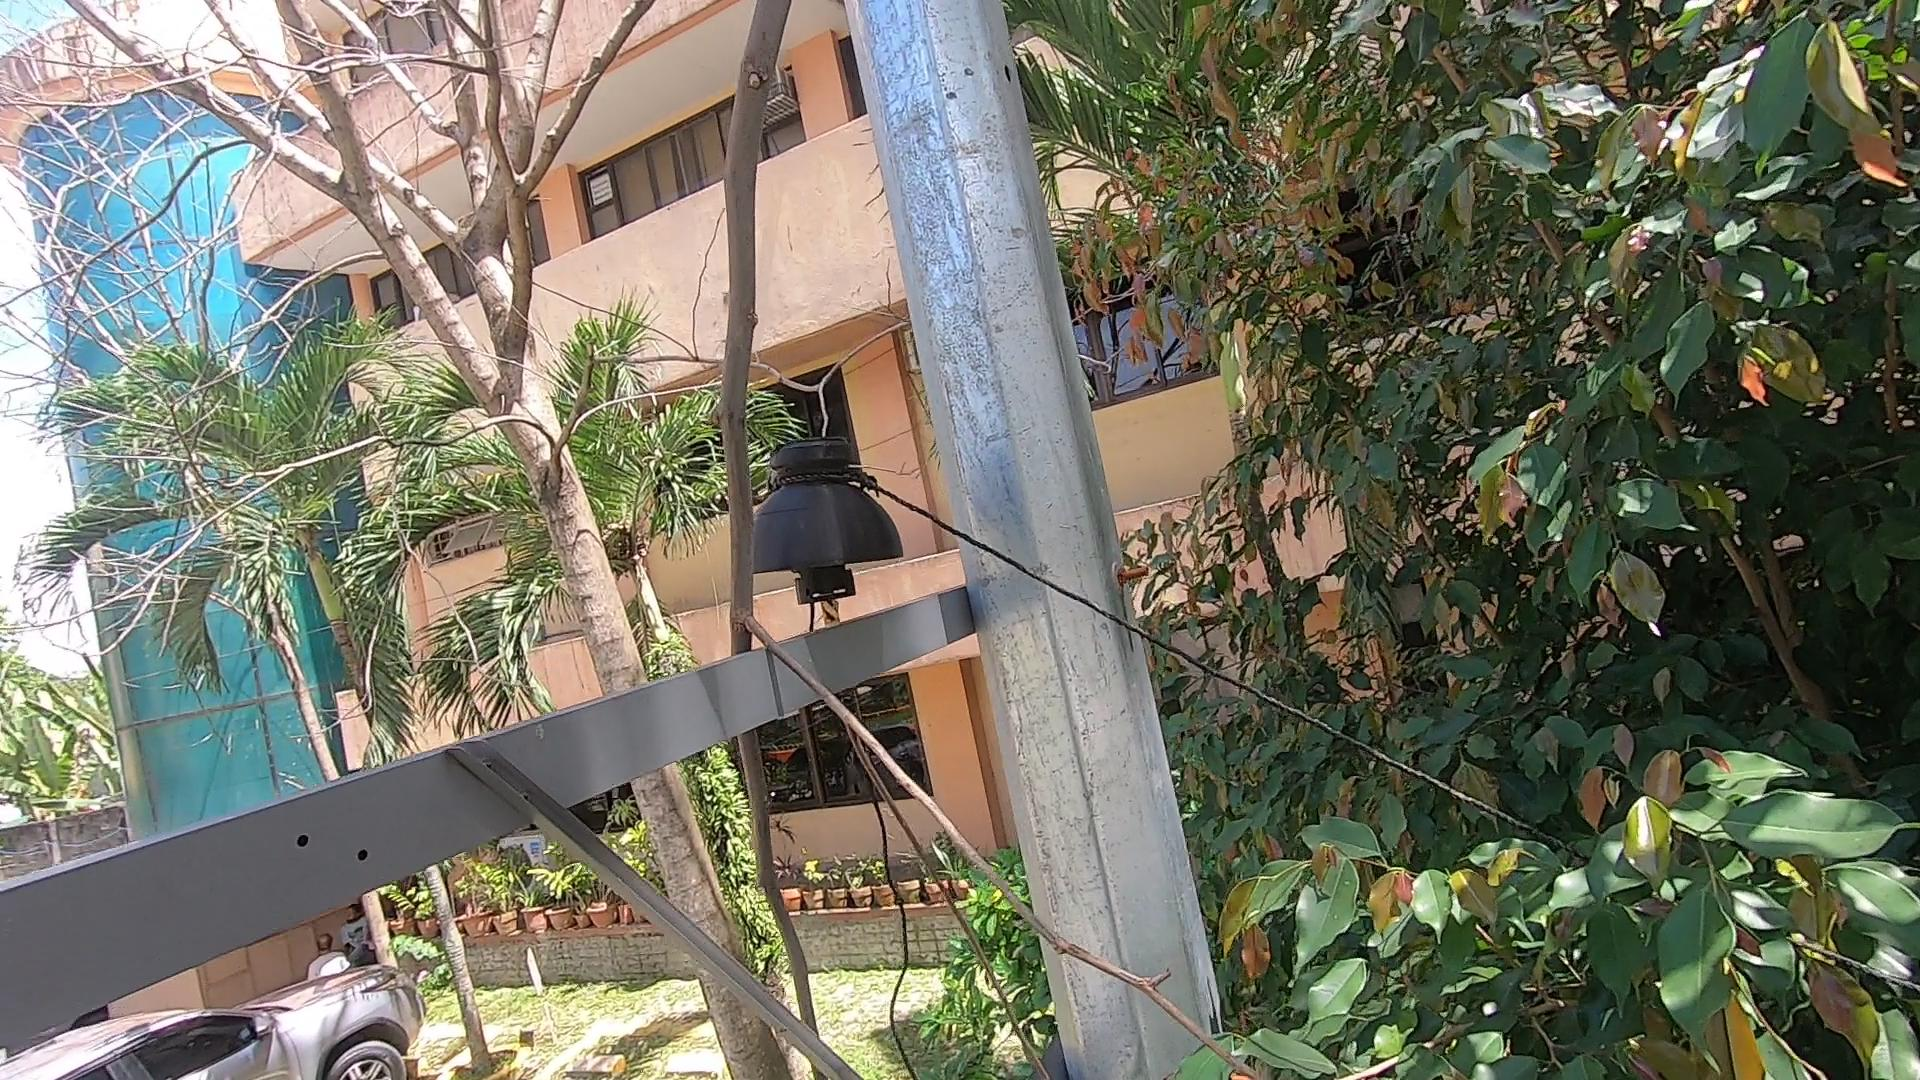tree branch: (651, 1, 880, 1080)
